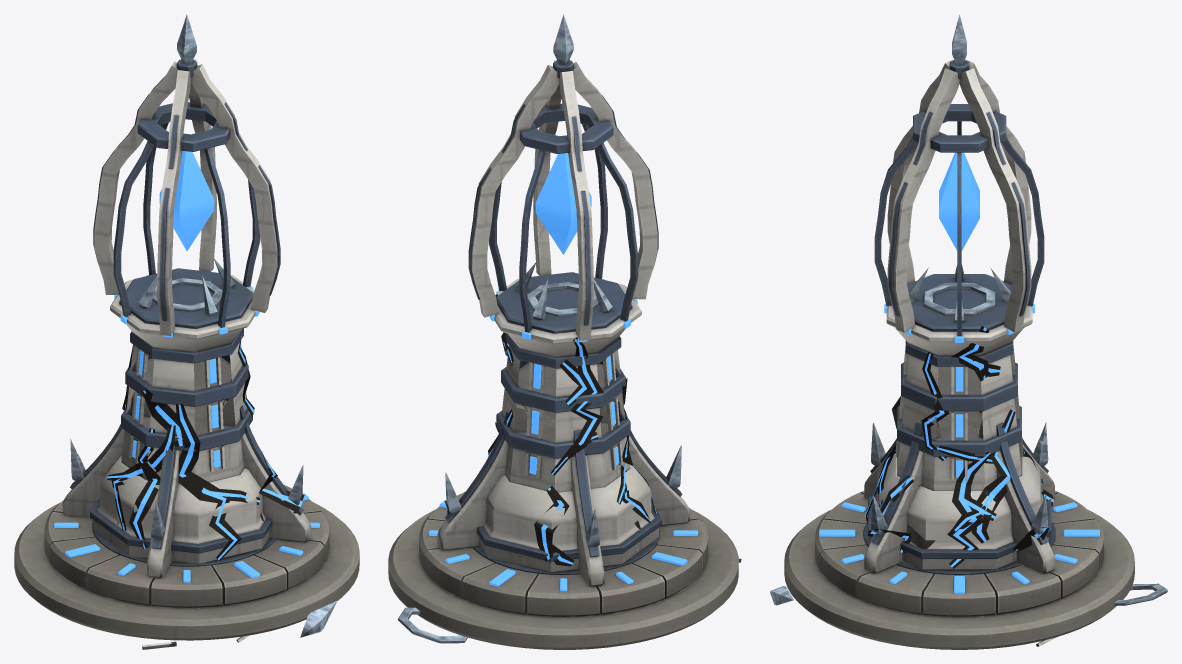
The model's file is needle_outer_aubade.glb.
The picture shows the model from 3 angles, left to right: view 1: azimuth 30°, elevation 25°; view 2: azimuth 150°, elevation 25°; view 3: azimuth 270°, elevation 25°; orthographic projection.
Visible parts, largest first — view 1: needle_outer_aubade_upper, needle_outer_aubade_base, needle_outer_aubade_dmg2, needle_outer_aubade_dmg1, needle_outer_aubade_core, needle_outer_aubade_ruin, needle_outer_aubade_glow_base, needle_outer_aubade_chip2, needle_outer_aubade_chip1, needle_outer_aubade_glow.001; view 2: needle_outer_aubade_upper, needle_outer_aubade_base, needle_outer_aubade_dmg1, needle_outer_aubade_core, needle_outer_aubade_dmg2, needle_outer_aubade_ruin, needle_outer_aubade_glow_base, needle_outer_aubade_glow.001, needle_outer_aubade_chip2, needle_outer_aubade_chip1; view 3: needle_outer_aubade_upper, needle_outer_aubade_base, needle_outer_aubade_dmg2, needle_outer_aubade_core, needle_outer_aubade_ruin, needle_outer_aubade_dmg1, needle_outer_aubade_glow_base, needle_outer_aubade_chip2, needle_outer_aubade_chip1, needle_outer_aubade_glow.001.
Part boxes in pixels (x1=…): needle_outer_aubade_upper: x1=62, y1=59, x2=311, y2=577; needle_outer_aubade_base: x1=14, y1=485, x2=359, y2=640; needle_outer_aubade_dmg2: x1=141, y1=390, x2=304, y2=560; needle_outer_aubade_dmg1: x1=107, y1=330, x2=254, y2=549; needle_outer_aubade_core: x1=159, y1=151, x2=214, y2=250; needle_outer_aubade_ruin: x1=65, y1=454, x2=337, y2=649; needle_outer_aubade_glow_base: x1=54, y1=493, x2=319, y2=582; needle_outer_aubade_chip2: x1=152, y1=258, x2=235, y2=384; needle_outer_aubade_chip1: x1=176, y1=14, x2=209, y2=387; needle_outer_aubade_glow.001: x1=114, y1=275, x2=259, y2=467; needle_outer_aubade_upper: x1=437, y1=60, x2=689, y2=586; needle_outer_aubade_base: x1=388, y1=492, x2=738, y2=649; needle_outer_aubade_dmg1: x1=444, y1=337, x2=659, y2=522; needle_outer_aubade_core: x1=535, y1=153, x2=591, y2=254; needle_outer_aubade_dmg2: x1=488, y1=294, x2=627, y2=566; needle_outer_aubade_ruin: x1=398, y1=446, x2=741, y2=643; needle_outer_aubade_glow_base: x1=428, y1=501, x2=698, y2=591; needle_outer_aubade_glow.001: x1=489, y1=279, x2=637, y2=474; needle_outer_aubade_chip2: x1=514, y1=261, x2=598, y2=316; needle_outer_aubade_chip1: x1=553, y1=14, x2=573, y2=78; needle_outer_aubade_upper: x1=864, y1=59, x2=1054, y2=573; needle_outer_aubade_base: x1=784, y1=491, x2=1134, y2=649; needle_outer_aubade_dmg2: x1=865, y1=326, x2=1053, y2=568; needle_outer_aubade_core: x1=939, y1=152, x2=979, y2=250; needle_outer_aubade_ruin: x1=770, y1=423, x2=1167, y2=646; needle_outer_aubade_dmg1: x1=921, y1=352, x2=1049, y2=550; needle_outer_aubade_glow_base: x1=819, y1=502, x2=1099, y2=593; needle_outer_aubade_chip2: x1=903, y1=283, x2=995, y2=374; needle_outer_aubade_chip1: x1=903, y1=14, x2=969, y2=394; needle_outer_aubade_glow.001: x1=884, y1=304, x2=1034, y2=477.
Size of the model in its own units: 2.62 by 4.7 by 2.97.
4 materials, 1 textured.
